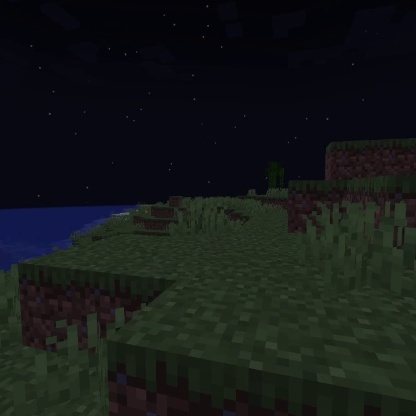spider: (150, 198, 306, 340)
